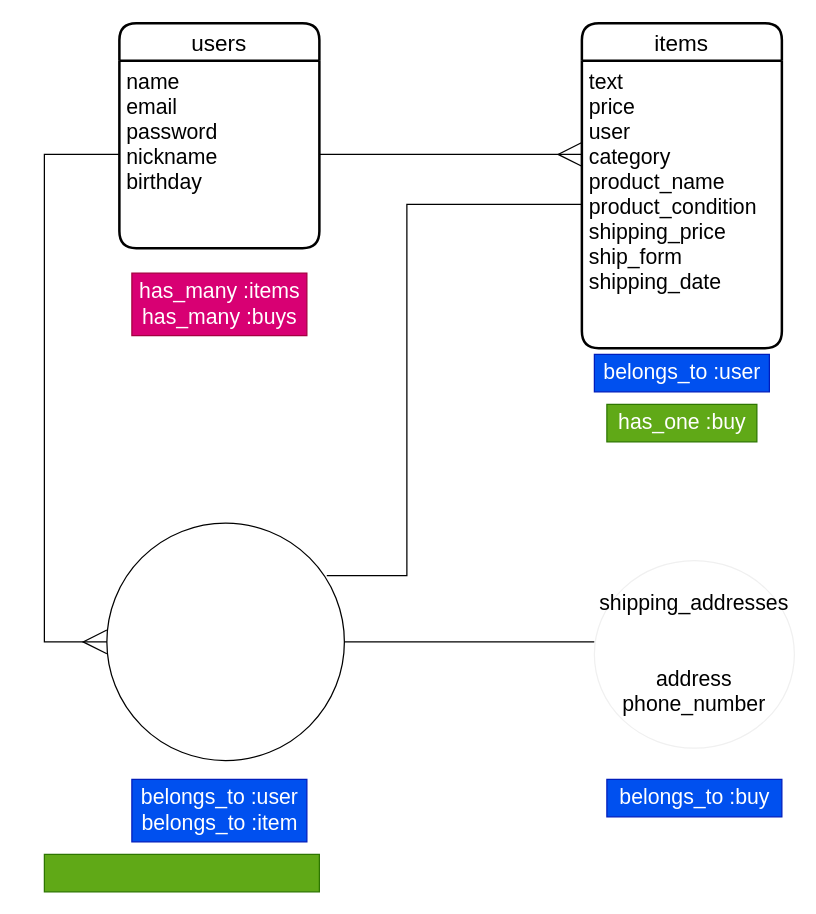
Some shapes in this 816 by 914 pixel diagram are drawn without their labels. Here are the shapes that lost their labels. From the top down, the centre of each, then its label:
the point at 225,641: buys user item
the point at 181,872: has_one :shipping_address
